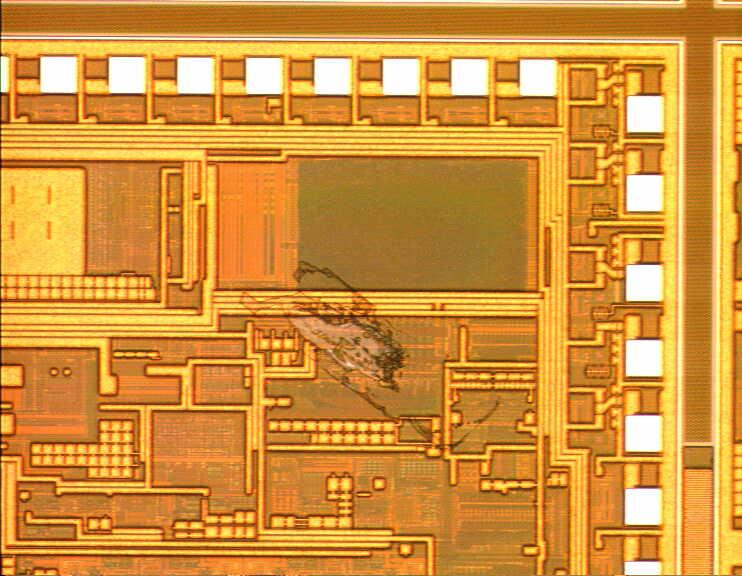PIQ PARTICLE: (241, 253, 499, 451)
